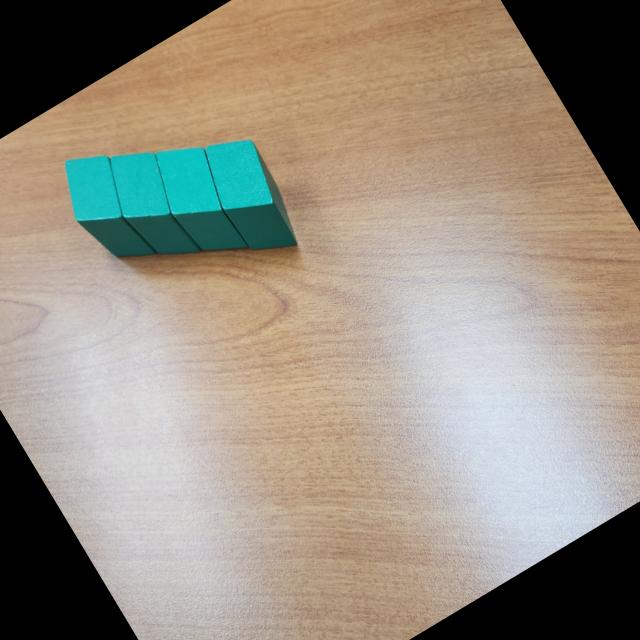green: (140, 129, 262, 274), (191, 124, 311, 269), (48, 140, 166, 282), (94, 135, 212, 277)
